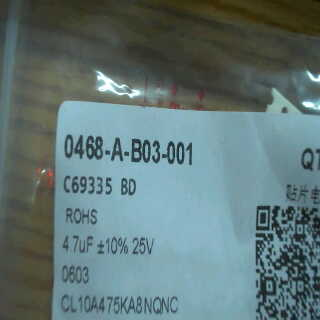4.7uF: (60, 232, 95, 257)
